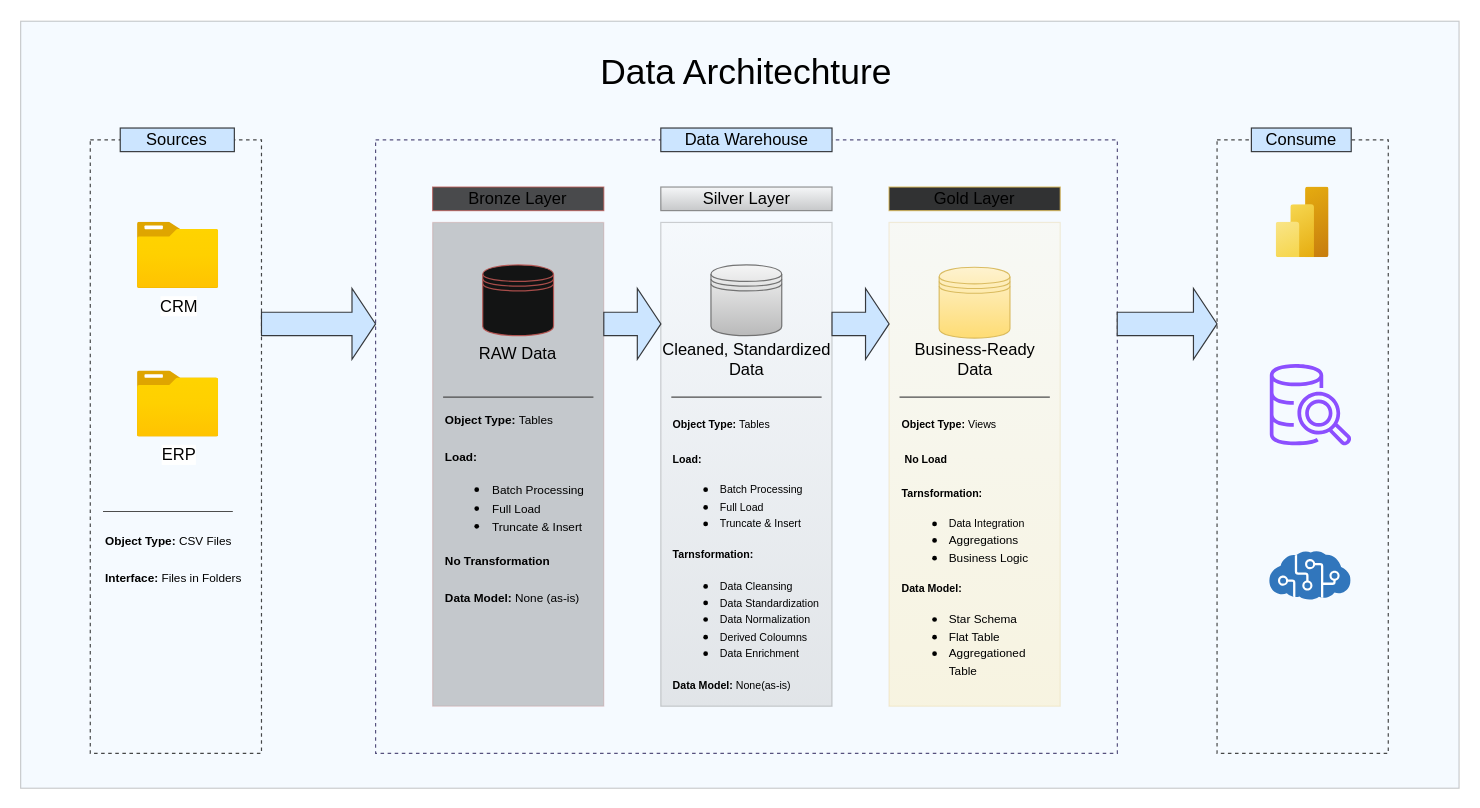
Some shapes in this 1480 by 808 pixel diagram are drawn without their labels. The shapes that lost their labels are listed below. From the top down, each one's centre as x and y in pixels, then its label:
At pixel 1302 221: "BI & Reporting".
At pixel 1310 404: "Ad-Hoc SQL Queries".
At pixel 1310 575: "Machine Learning".
